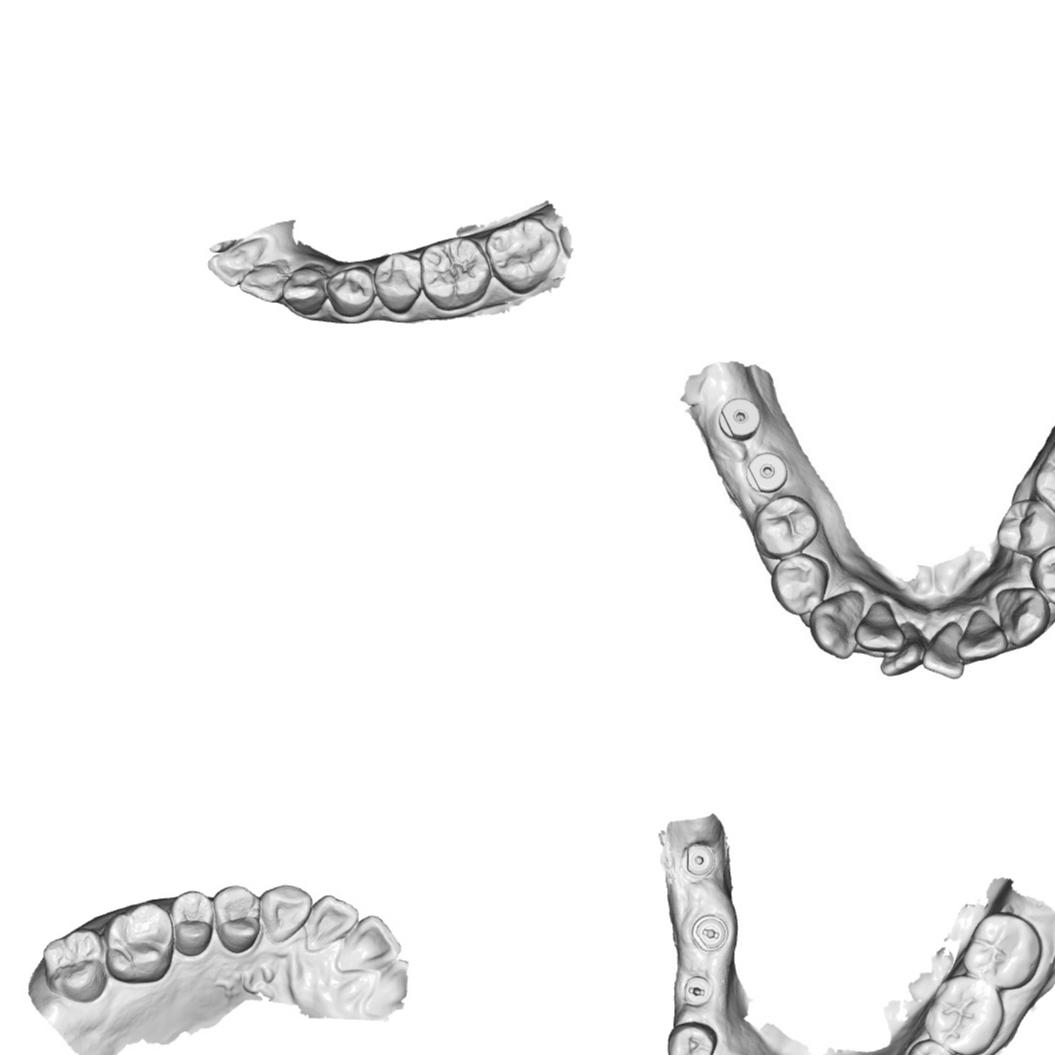canine: (256, 882, 316, 945), (810, 591, 862, 659), (996, 586, 1050, 647), (282, 261, 328, 316)
implant: (715, 394, 761, 441), (743, 450, 790, 494), (678, 839, 719, 877)
implant_minus: (690, 912, 730, 954), (680, 971, 716, 1009)
incisor: (332, 913, 402, 974), (302, 892, 361, 955), (207, 235, 266, 287), (956, 607, 1009, 662), (919, 620, 966, 680), (853, 600, 903, 655), (880, 624, 927, 677), (239, 256, 288, 304)
molar: (960, 910, 1043, 992), (922, 973, 1005, 1055), (105, 900, 175, 986), (484, 216, 561, 294), (420, 235, 492, 311), (40, 926, 110, 1004), (1033, 434, 1055, 523)
premolar: (751, 495, 819, 557), (211, 879, 262, 955), (996, 497, 1055, 558), (769, 553, 827, 615), (168, 887, 215, 958), (372, 251, 420, 315), (326, 265, 375, 318), (663, 1020, 717, 1055), (1027, 547, 1055, 608), (901, 1038, 961, 1055)
